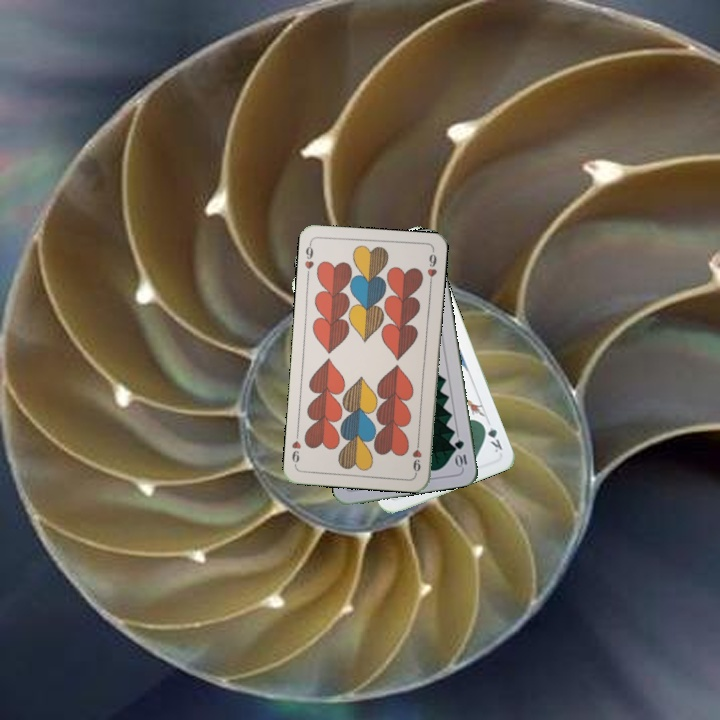G10: (451, 435, 470, 470)
GK: (478, 419, 505, 455)
H9: (408, 435, 424, 476), (300, 239, 316, 279)
